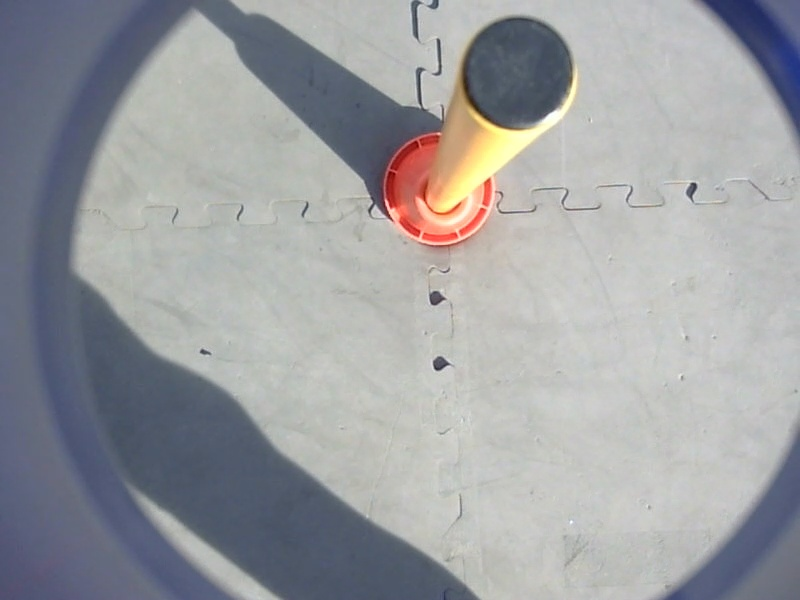tip: (452, 9, 584, 137)
